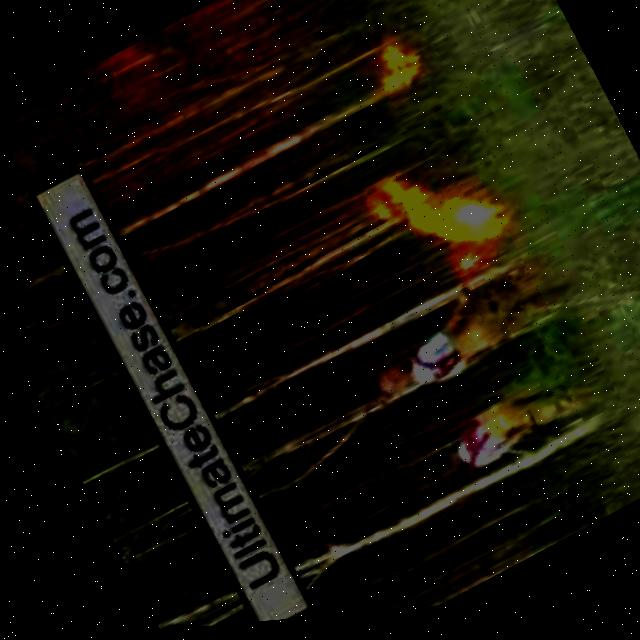Fire: (361, 144, 506, 288), (358, 34, 428, 106)
